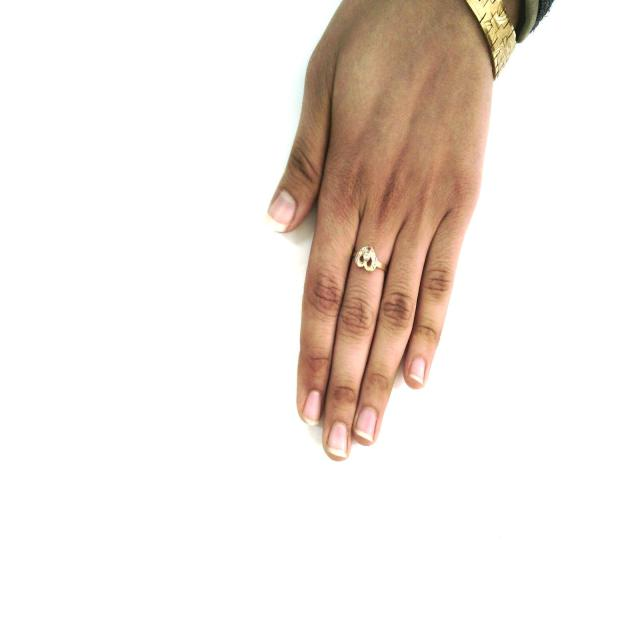Nail: (266, 188, 297, 232), (355, 407, 378, 442), (328, 421, 348, 458), (302, 390, 322, 425), (406, 358, 426, 389)
